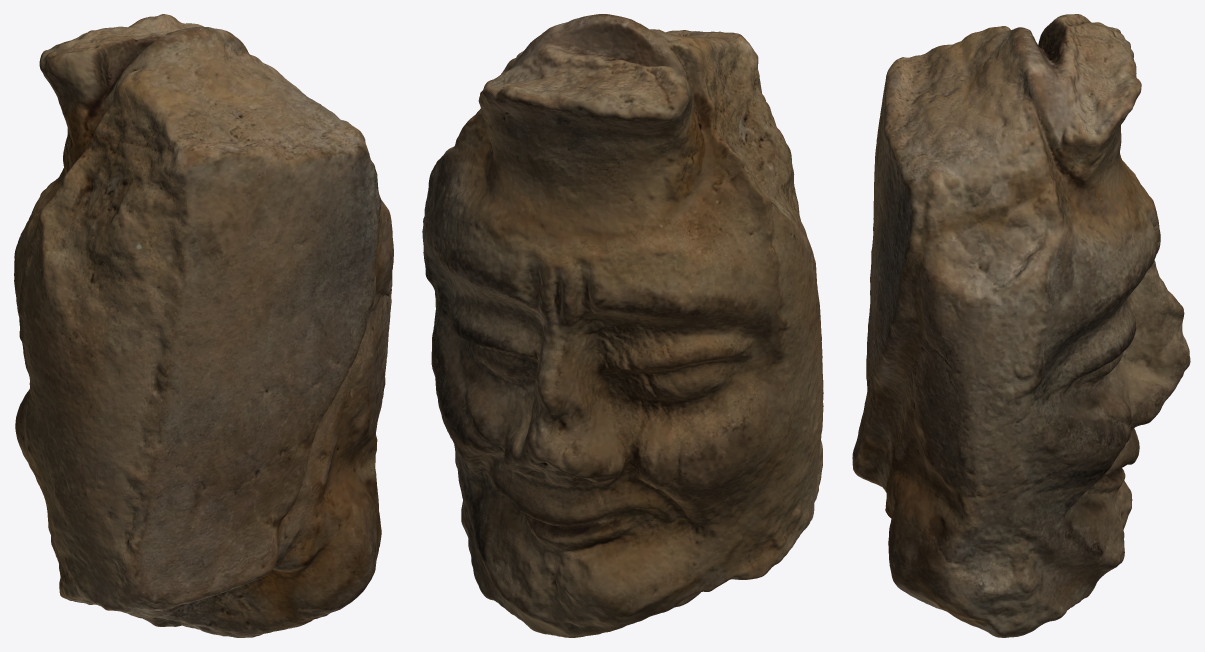
The picture shows the model from 3 angles, left to right: view 1: azimuth 30°, elevation 25°; view 2: azimuth 150°, elevation 25°; view 3: azimuth 270°, elevation 25°; orthographic projection. The views are drawn at different scales.
Parts seen in each view (by area): view 1: Mesh_0.022; view 2: Mesh_0.022; view 3: Mesh_0.022.
Part boxes in pixels (left/top/right/bottom): Mesh_0.022: left=14, top=14, right=393, bottom=637; Mesh_0.022: left=422, top=14, right=823, bottom=637; Mesh_0.022: left=852, top=14, right=1190, bottom=637.
Bounding box in the file's own units: 0.0627 × 0.1037 × 0.0569.
1 material, 1 textured.
